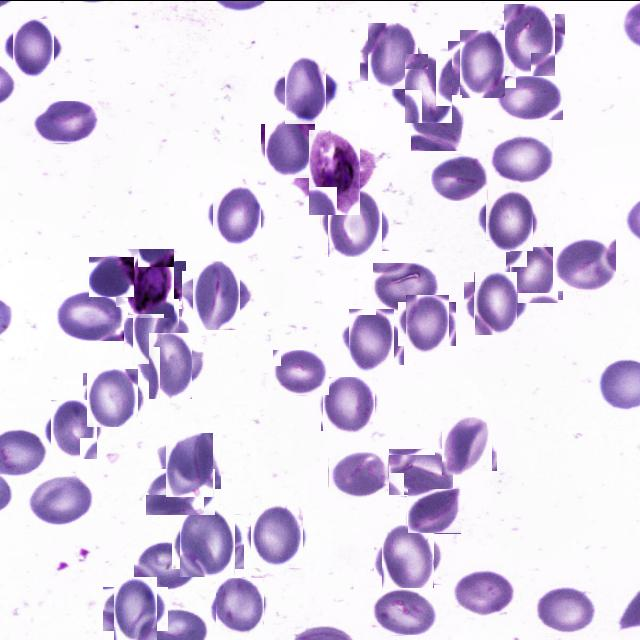difficult: (301, 137, 368, 205)
red blood cell: (177, 508, 240, 572), (324, 192, 386, 254), (498, 8, 560, 70), (26, 472, 95, 526), (378, 528, 438, 588), (56, 290, 124, 340), (248, 507, 306, 565), (364, 26, 422, 84), (400, 58, 458, 116), (454, 34, 511, 92), (188, 265, 245, 323), (145, 468, 215, 515), (553, 238, 616, 290), (373, 262, 438, 312), (134, 540, 198, 590), (371, 587, 438, 634), (128, 303, 184, 359), (343, 313, 399, 369), (161, 436, 217, 492), (496, 73, 563, 119), (452, 568, 516, 616), (388, 448, 453, 495), (533, 586, 599, 632), (85, 370, 140, 425), (209, 187, 264, 242), (278, 62, 333, 117), (142, 338, 198, 392), (489, 135, 553, 182), (322, 377, 377, 431), (482, 192, 536, 246), (468, 276, 522, 330), (264, 121, 318, 175), (440, 418, 494, 472), (109, 581, 162, 635), (411, 94, 462, 150), (32, 100, 98, 143), (328, 451, 388, 498), (508, 248, 561, 300), (48, 402, 100, 455), (214, 580, 266, 632), (272, 349, 329, 395), (432, 154, 489, 200), (402, 297, 452, 348), (8, 22, 58, 72), (407, 488, 461, 533), (90, 256, 136, 296)
schizont: (122, 254, 180, 312)
